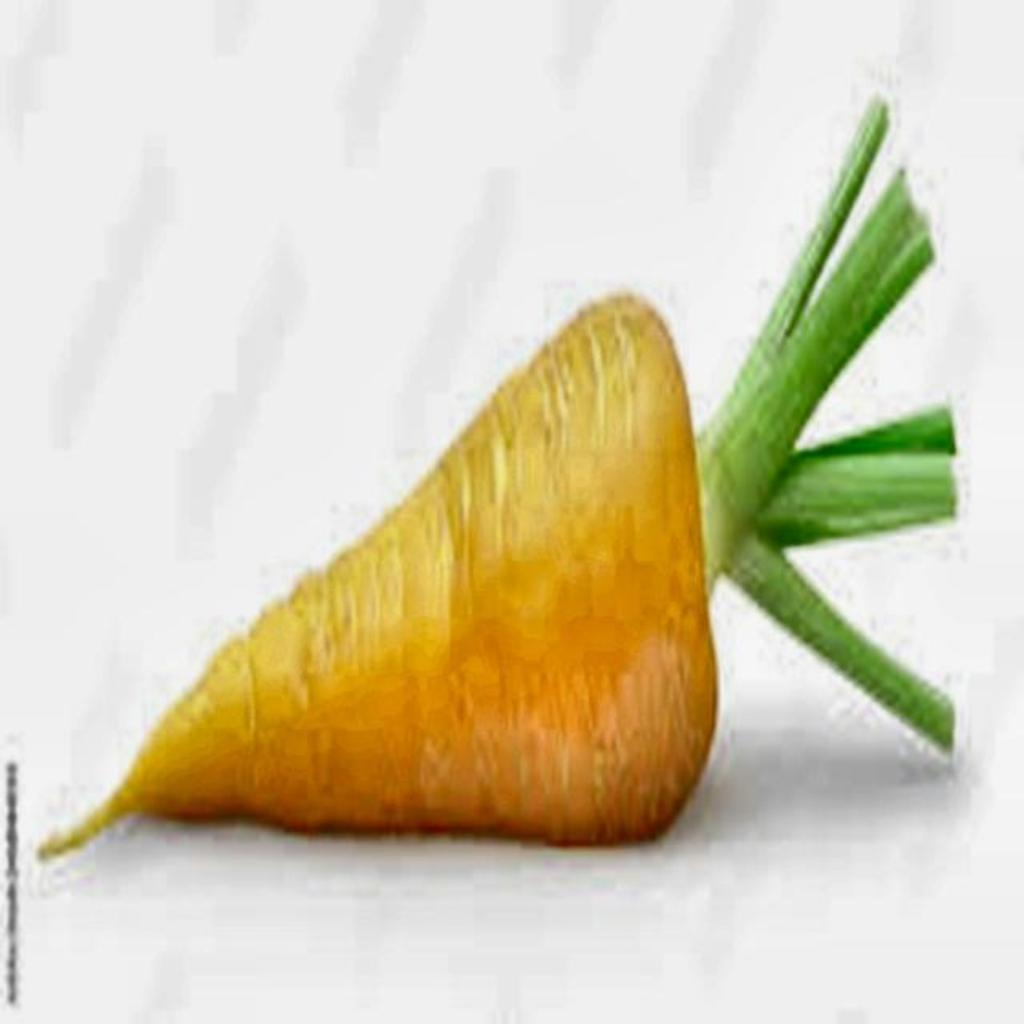carrot: (40, 102, 956, 858)
